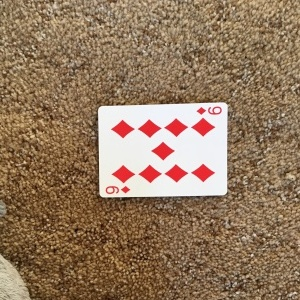card: (93, 100, 232, 200)
